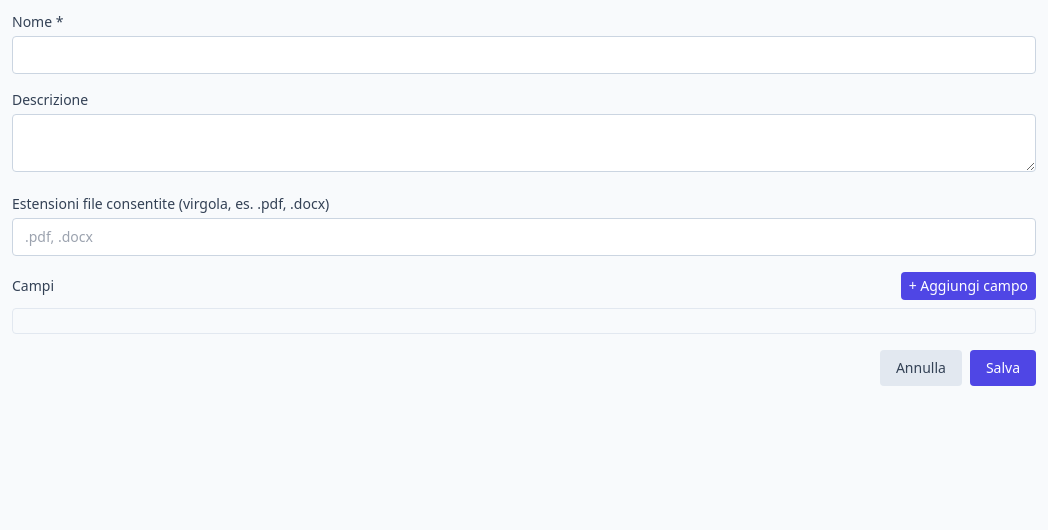
Scenario: MetadataStructureForm › adds a field when clicking add
Click the button "+ Aggiungi campo".
click(968, 286)  # box [901,272,1036,300]
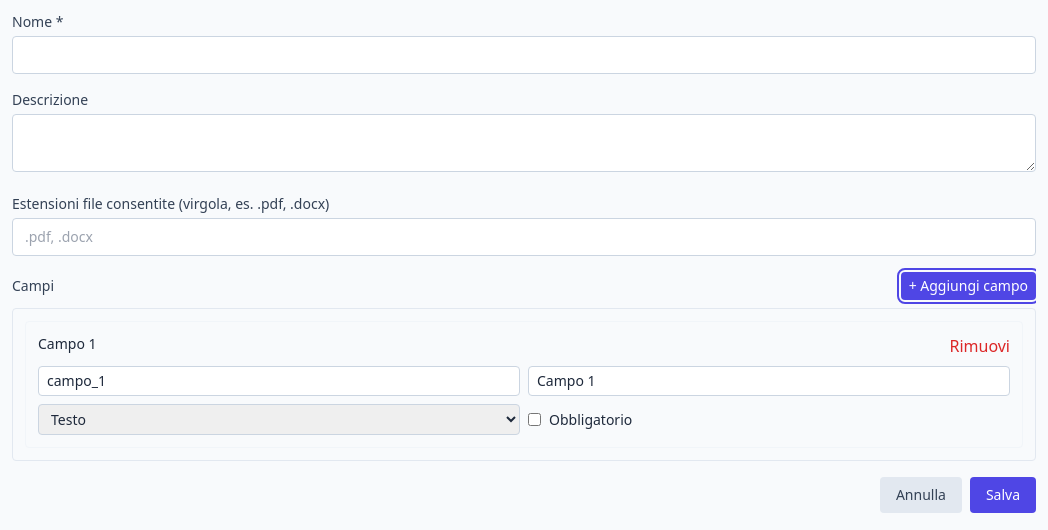
Expected: the 1st field with placeholder "Nome tecnico" is shown, [38,366,520,396]
Expected: the 2nd field with placeholder "Etichetta" is shown, [528,366,1010,396]
